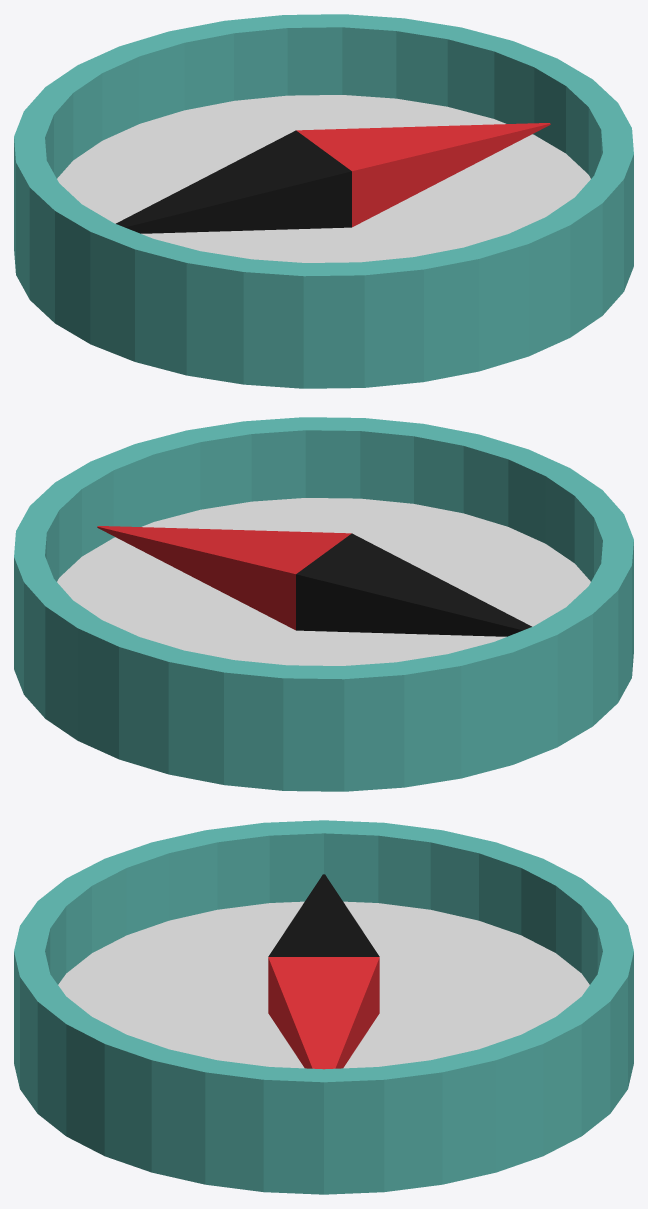
The model's file is iconCompass.gltf.
3 renders of one model, top to bottom at view 1: azimuth 30°, elevation 25°; view 2: azimuth 150°, elevation 25°; view 3: azimuth 270°, elevation 25°, orthographic.
Parts seen in each view (by area): view 1: Cylinder.001, Circle, Cube.001, Cube; view 2: Cylinder.001, Circle, Cube.001, Cube; view 3: Cylinder.001, Circle, Cube, Cube.001.
Boxes of the visible parts, x1,y1,x2,y2 form: Cylinder.001: [14, 14, 633, 388]; Circle: [57, 95, 590, 262]; Cube.001: [116, 130, 351, 233]; Cube: [296, 123, 550, 227]; Cylinder.001: [14, 417, 633, 791]; Circle: [57, 498, 590, 665]; Cube.001: [296, 533, 531, 636]; Cube: [97, 526, 351, 630]; Cylinder.001: [14, 820, 633, 1194]; Circle: [58, 901, 589, 1068]; Cube: [268, 957, 379, 1069]; Cube.001: [268, 874, 379, 956].
Bounding box in the file's own units: 2 × 0.4 × 2.
